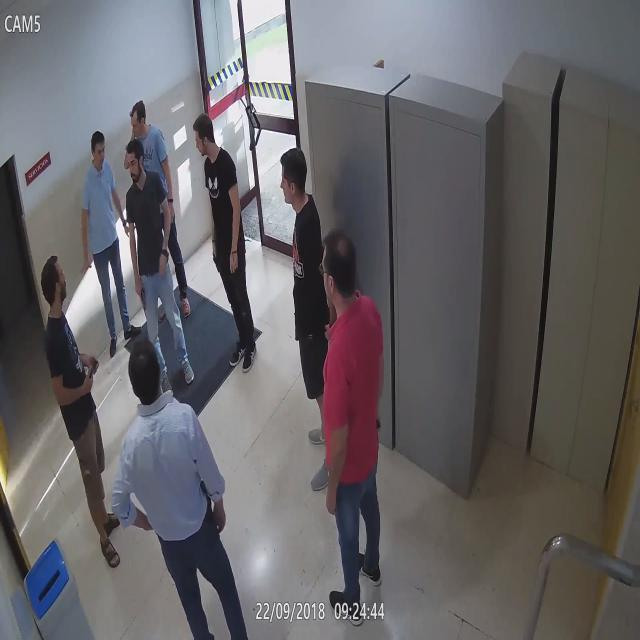gun: (82, 360, 100, 398), (133, 279, 147, 313), (210, 239, 222, 274)
